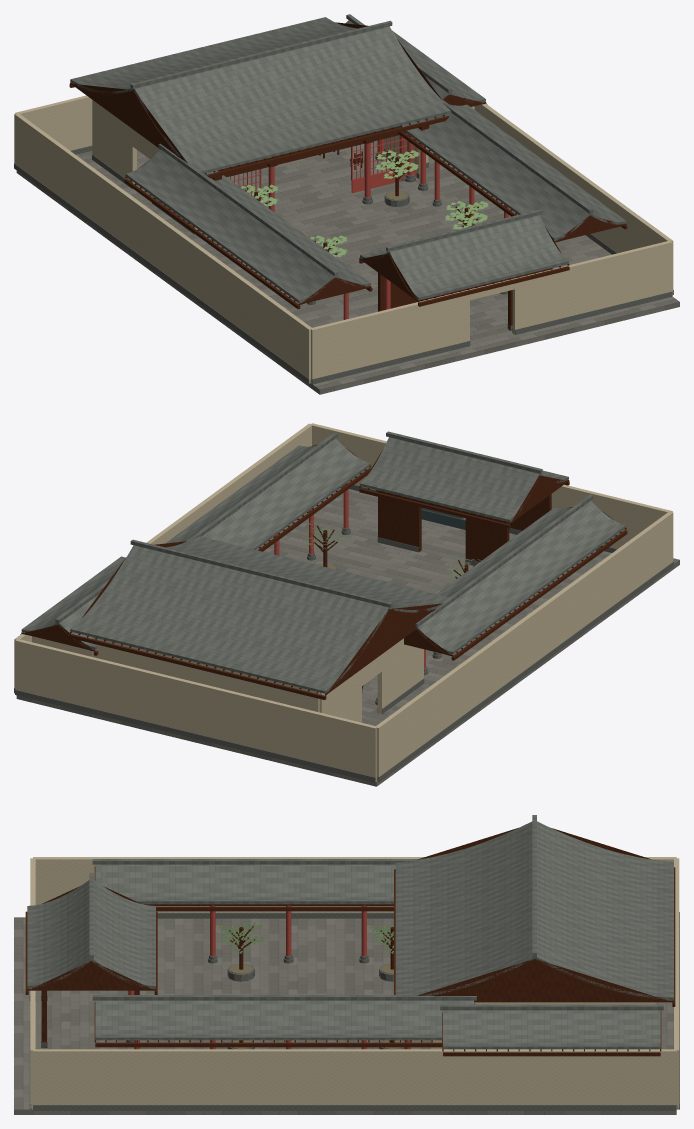
File: tianshi.glb
The picture shows the model from 3 angles, top to bottom: view 1: azimuth 30°, elevation 25°; view 2: azimuth 150°, elevation 25°; view 3: azimuth 270°, elevation 25°; orthographic projection. The views are drawn at different scales.
Visible parts, largest first — view 1: tianshi_tile, tianshi_plaster, tianshi_paving, tianshi_wood, tianshi_stone, tianshi_red, tianshi_leaf; view 2: tianshi_tile, tianshi_plaster, tianshi_paving, tianshi_wood, tianshi_stone, tianshi_red; view 3: tianshi_tile, tianshi_plaster, tianshi_paving, tianshi_wood, tianshi_stone, tianshi_red, tianshi_leaf, tianshi_earth.
Boxes of the visible parts, x1,y1,x2,y2 form: tianshi_tile: (70,14,626,302); tianshi_plaster: (14,95,673,383); tianshi_paving: (16,140,679,394); tianshi_wood: (69,22,627,330); tianshi_stone: (14,145,673,384); tianshi_red: (217,129,508,319); tianshi_leaf: (241,150,488,256); tianshi_tile: (21,431,626,693); tianshi_plaster: (14,423,673,781); tianshi_paving: (16,487,679,786); tianshi_wood: (20,444,627,699); tianshi_stone: (14,485,673,782); tianshi_red: (274,482,425,668); tianshi_tile: (27,815,673,1049); tianshi_plaster: (30,857,679,1109); tianshi_paving: (14,917,676,1114); tianshi_wood: (25,827,675,1056); tianshi_stone: (29,912,679,1110); tianshi_red: (128,905,410,1049); tianshi_leaf: (218,921,393,953); tianshi_earth: (229,964,403,1049).
Size of the model in its own units: 24.4 by 7.85 by 35.17.
Materials: 14 (5 with a texture image).
